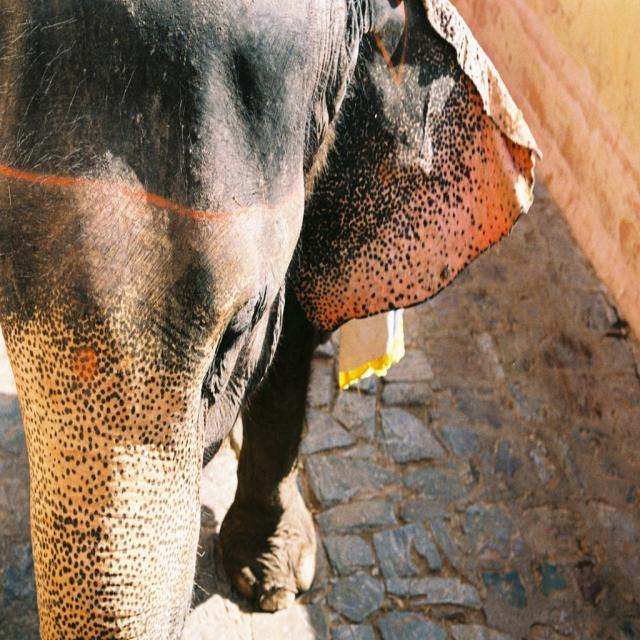Elephant: (0, 8, 518, 628)
